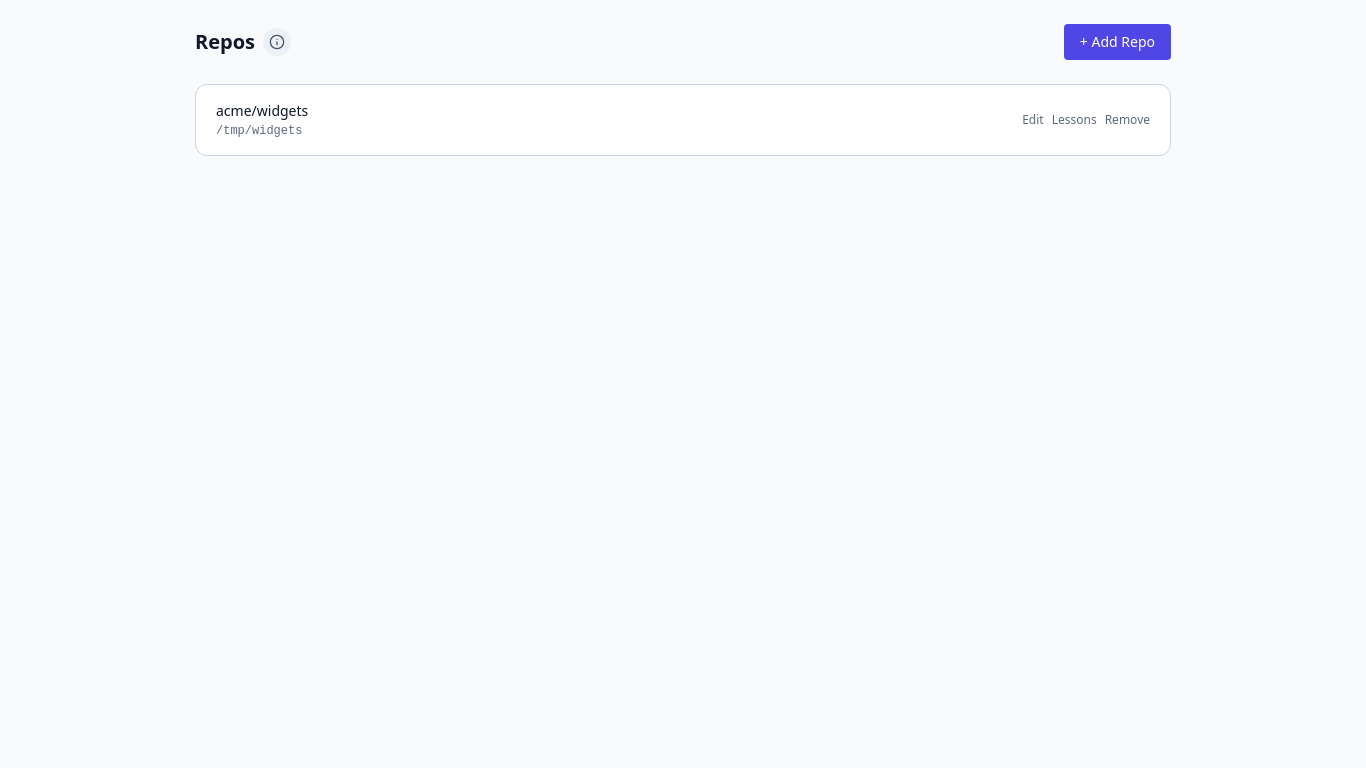
Scenario: ReposPage — Agent runtime section › shows "Nothing detected." when detection returns no suggestions
Check: the text "acme/widgets" is shown, box top-left (216, 101), bottom-right (308, 120)
Click the button "Edit" at (1033, 120), box top-left (1022, 112), bottom-right (1044, 128)
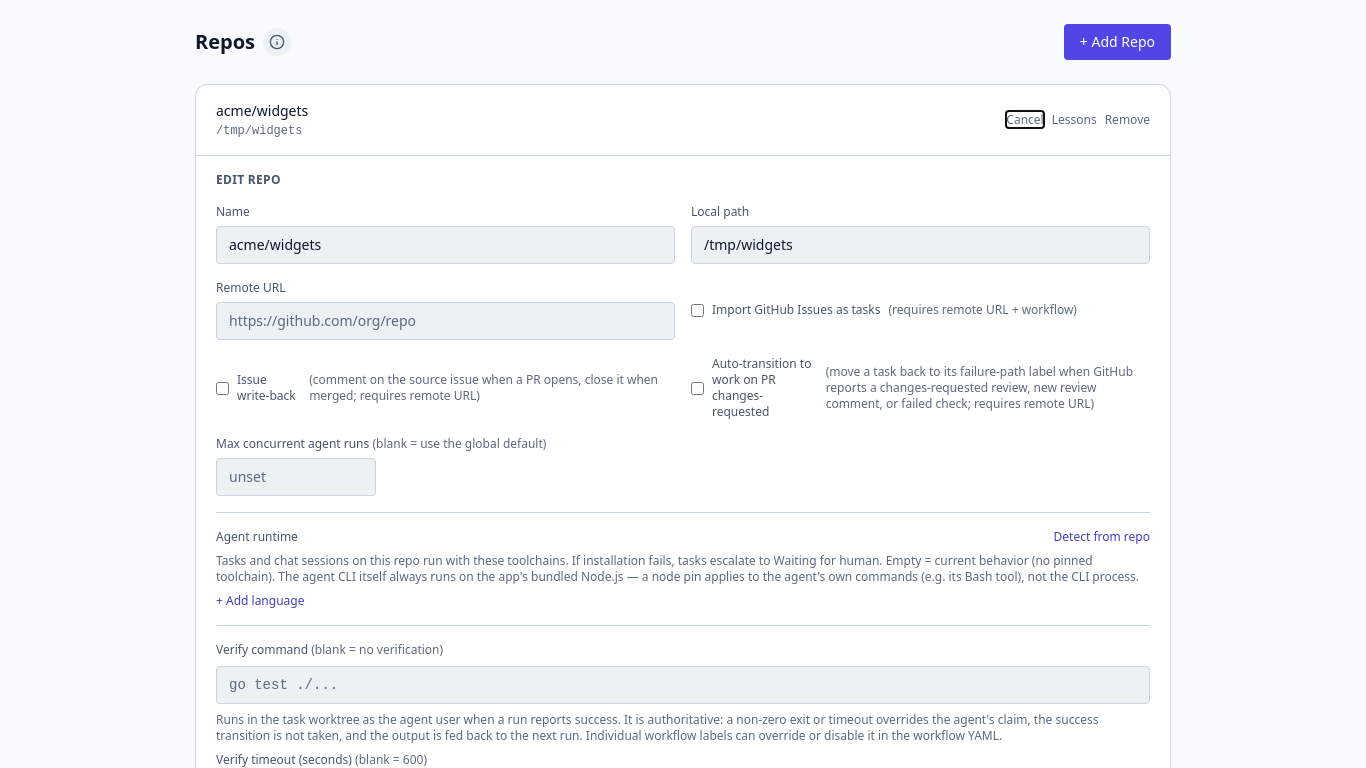
Click the button "Detect from repo" at (1102, 537), box top-left (1054, 529), bottom-right (1150, 545)
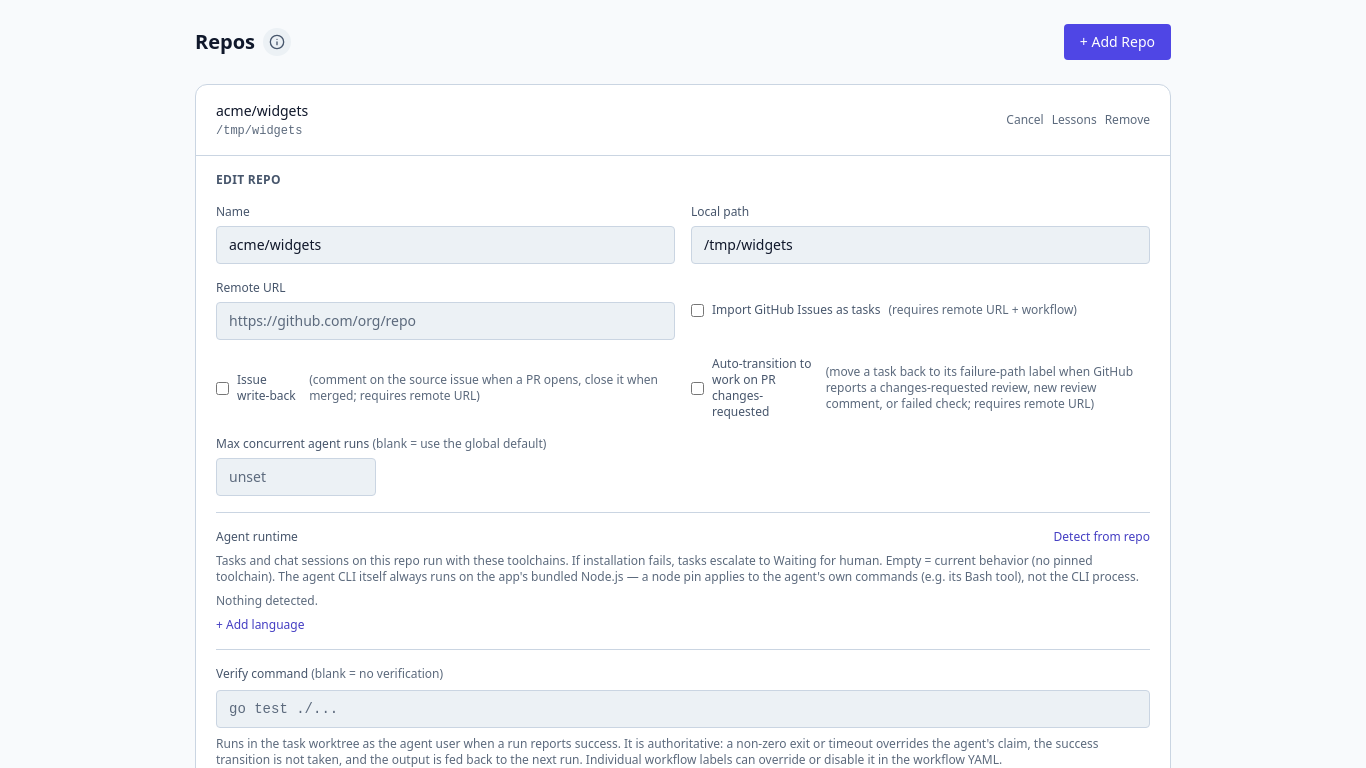
Check: the text "Nothing detected." is shown, box top-left (216, 592), bottom-right (318, 609)
